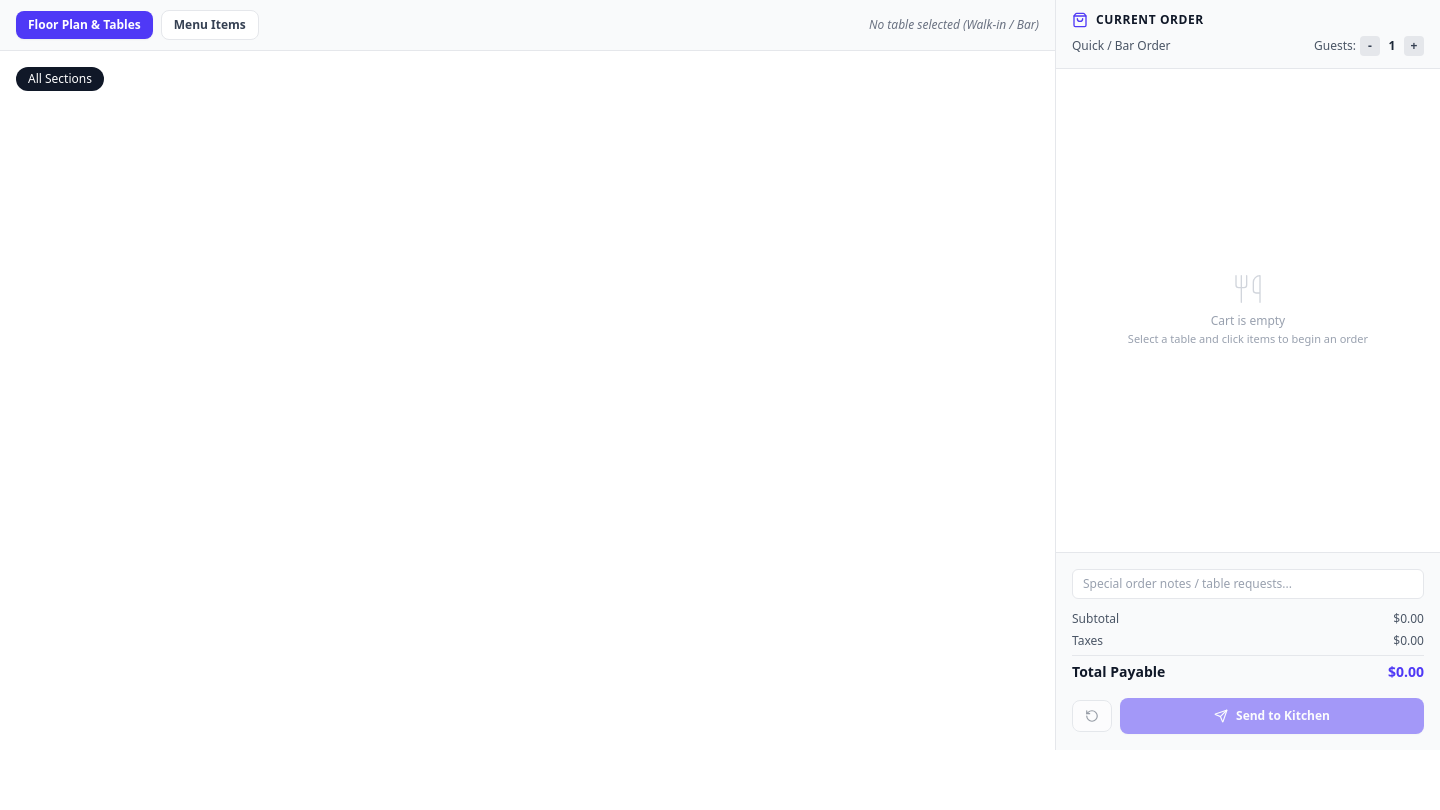
Test: PosPage Component › opens Modifier Customization modal when clicking customizable item (flattened shape)
The width and height of the screenshot is (1440, 810).
Click the button "Menu Items": (210, 25) [161,10,259,40]
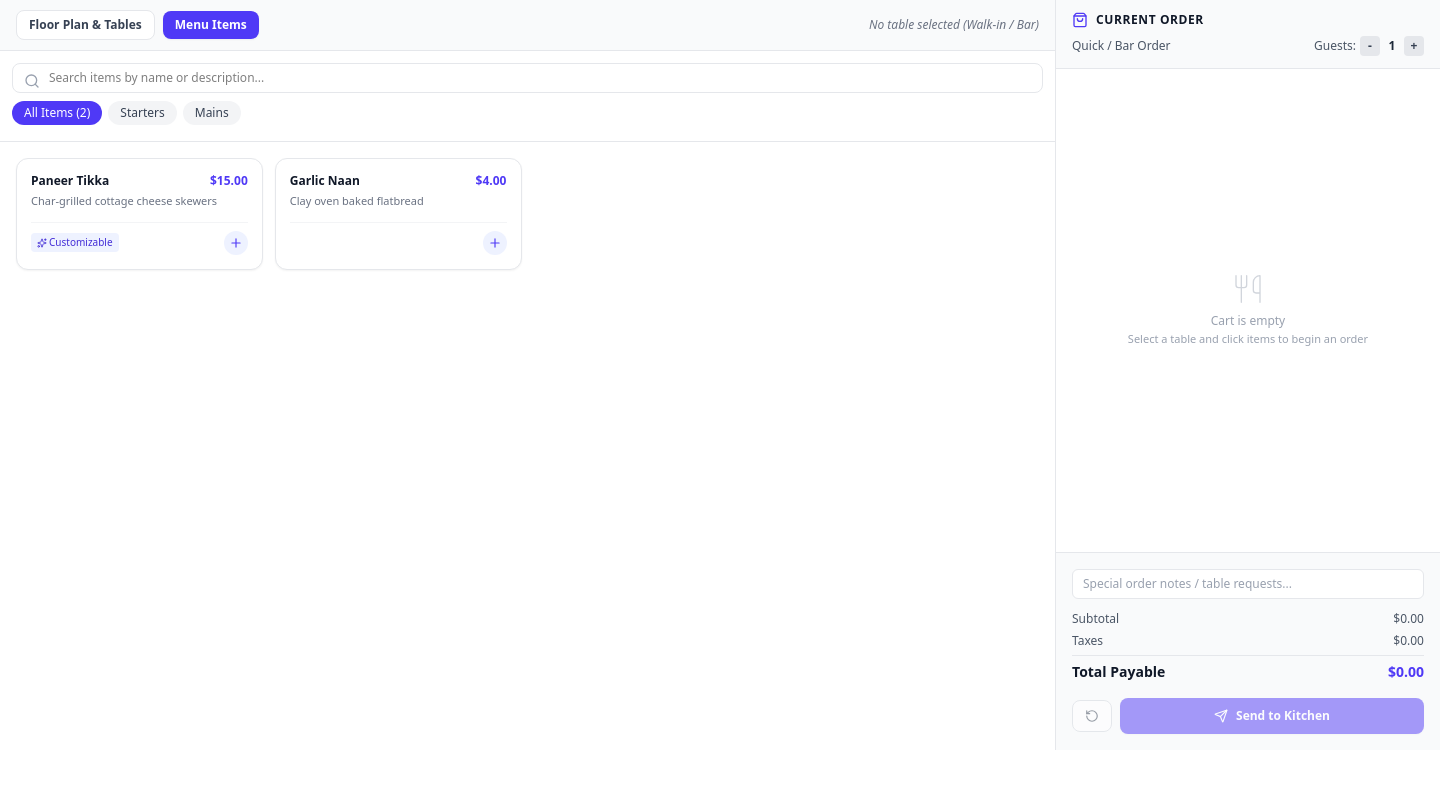
Now the heading "Paneer Tikka" is shown
// Click Paneer Tikka
Click the heading "Paneer Tikka": (70, 181) [31,173,109,189]
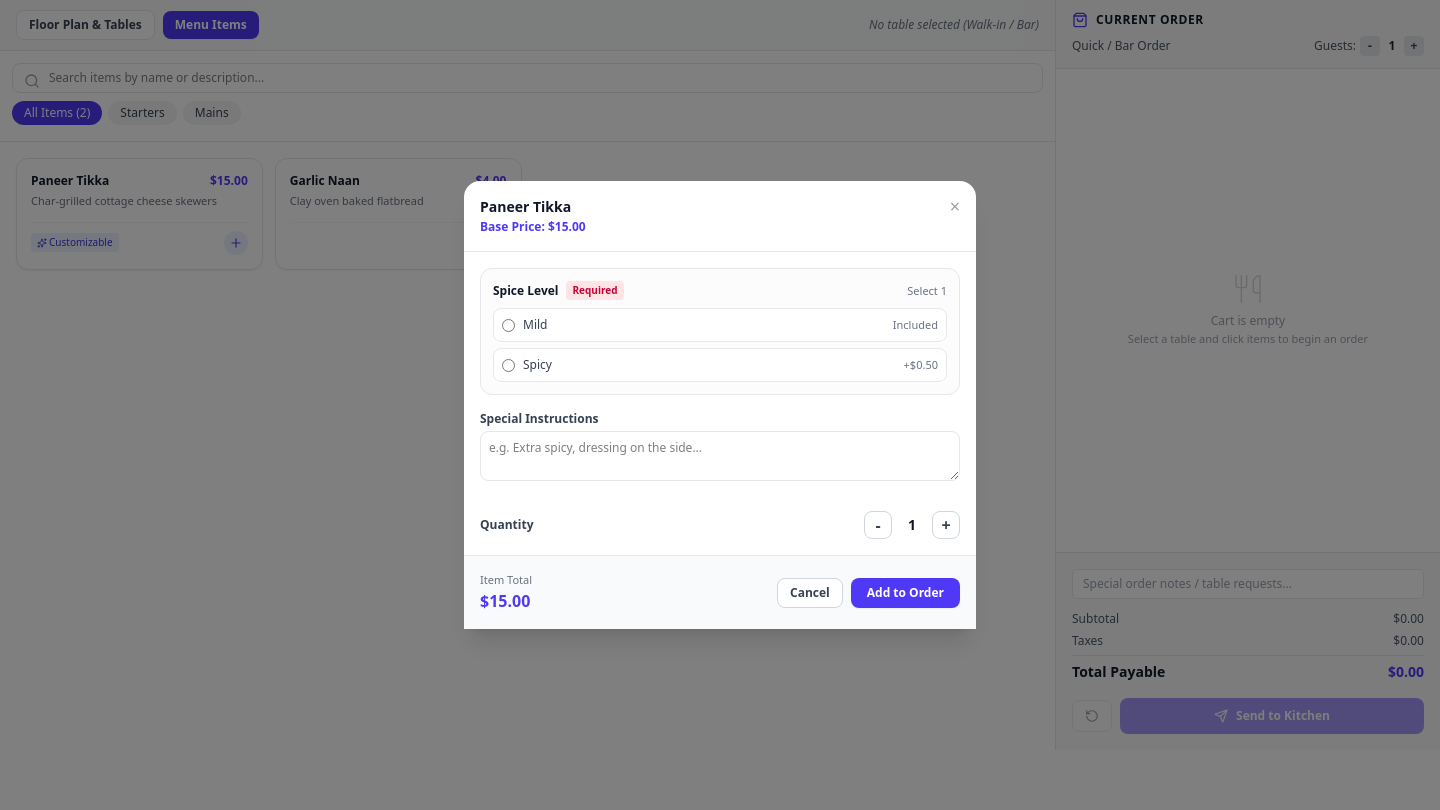
Now the text "Spice Level" is shown, box [493,283,558,299]
Now the text "Required" is shown, box [566,281,624,300]
Now the text "Mild" is shown, box [523,317,548,333]
